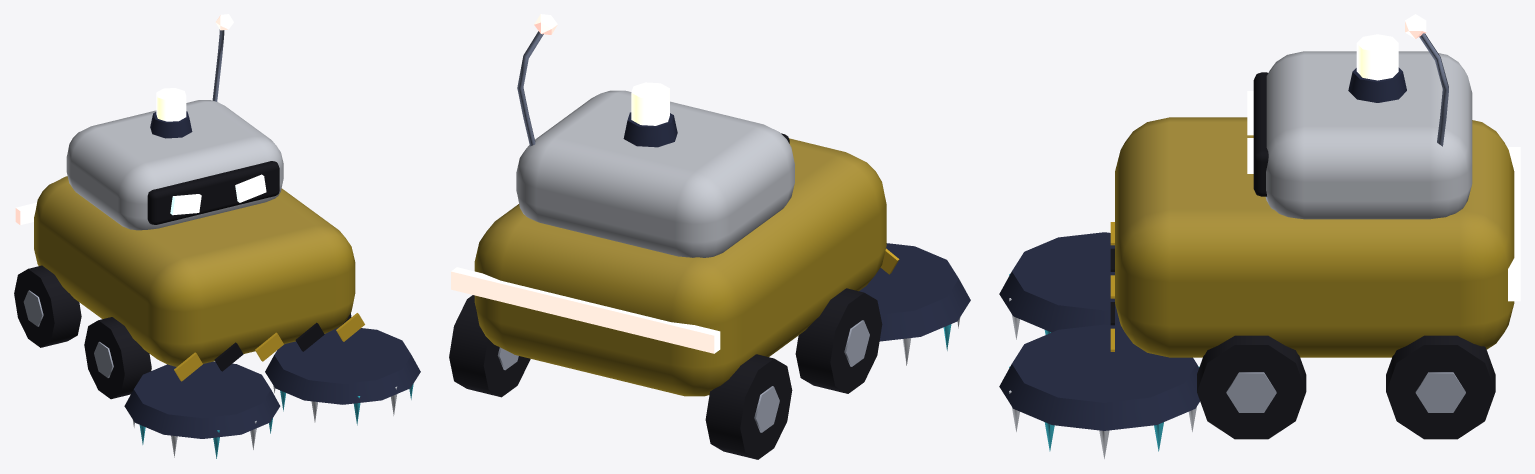
Rendered from carrinho-limpeza.glb.
The picture shows the model from 3 angles, left to right: view 1: azimuth 30°, elevation 25°; view 2: azimuth 150°, elevation 25°; view 3: azimuth 270°, elevation 25°; orthographic projection. The views are drawn at different scales.
Visible parts, largest first — view 1: carrinho-limpeza; view 2: carrinho-limpeza; view 3: carrinho-limpeza.
Boxes of the visible parts, left/top/right/bottom form: carrinho-limpeza: left=14, top=14, right=420, bottom=458; carrinho-limpeza: left=449, top=14, right=970, bottom=459; carrinho-limpeza: left=999, top=14, right=1520, bottom=458.
Bounding box in the file's own units: 2.04 × 2.11 × 2.48.
